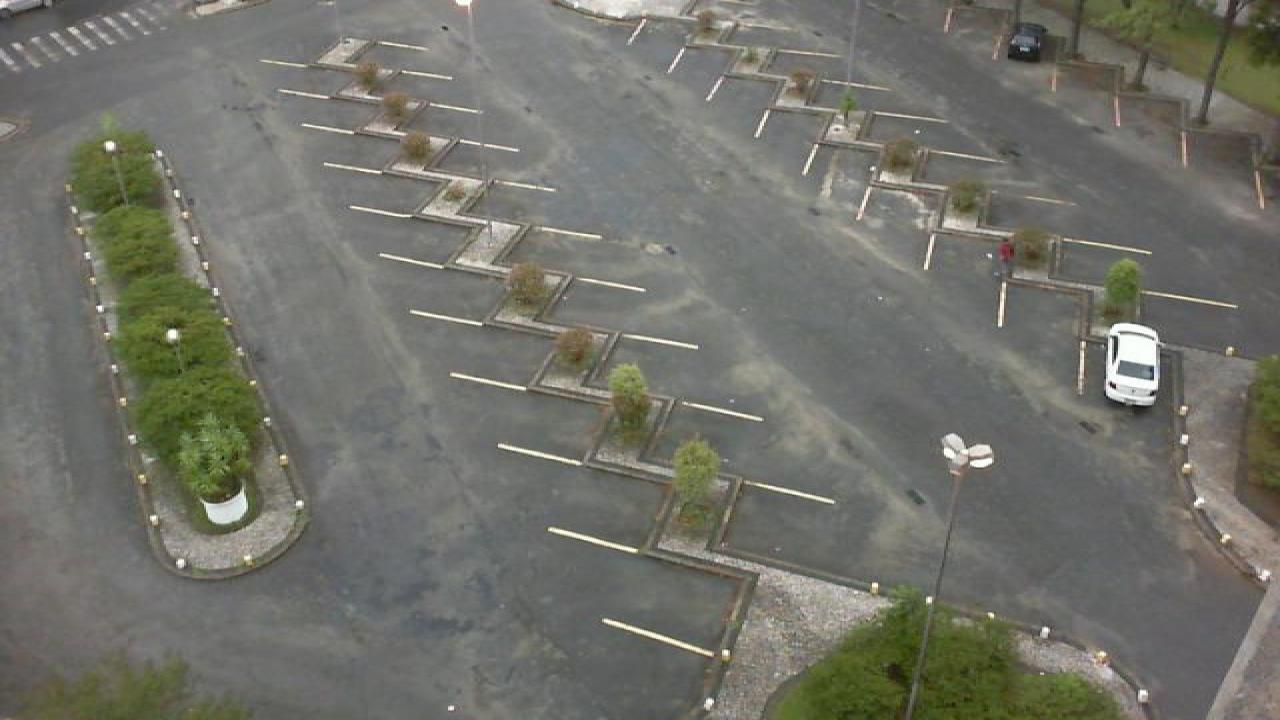Car: (1102, 322, 1162, 406), (1006, 22, 1048, 62)
